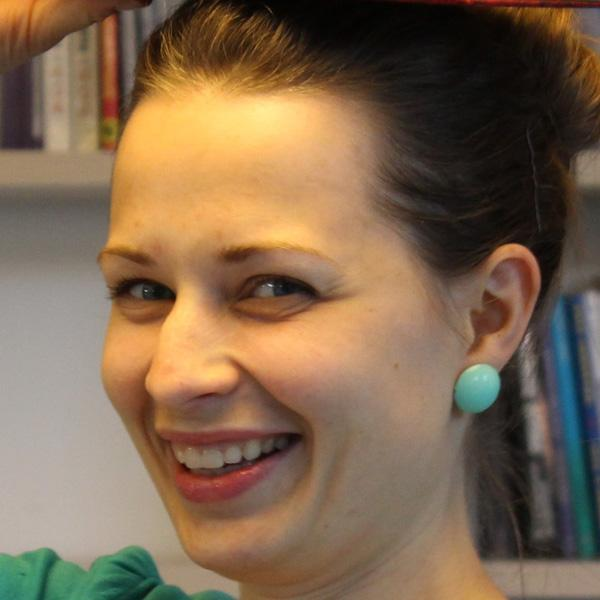Eyes: (225, 266, 322, 322), (105, 268, 182, 325)
